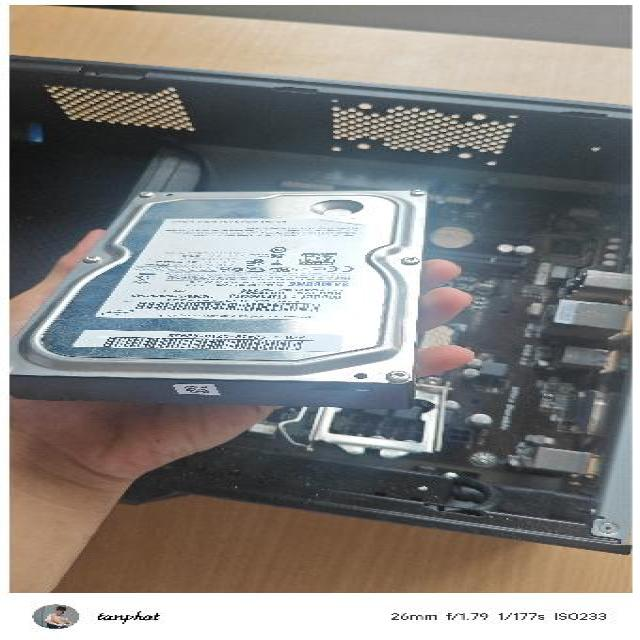DISK: (11, 181, 424, 411)
